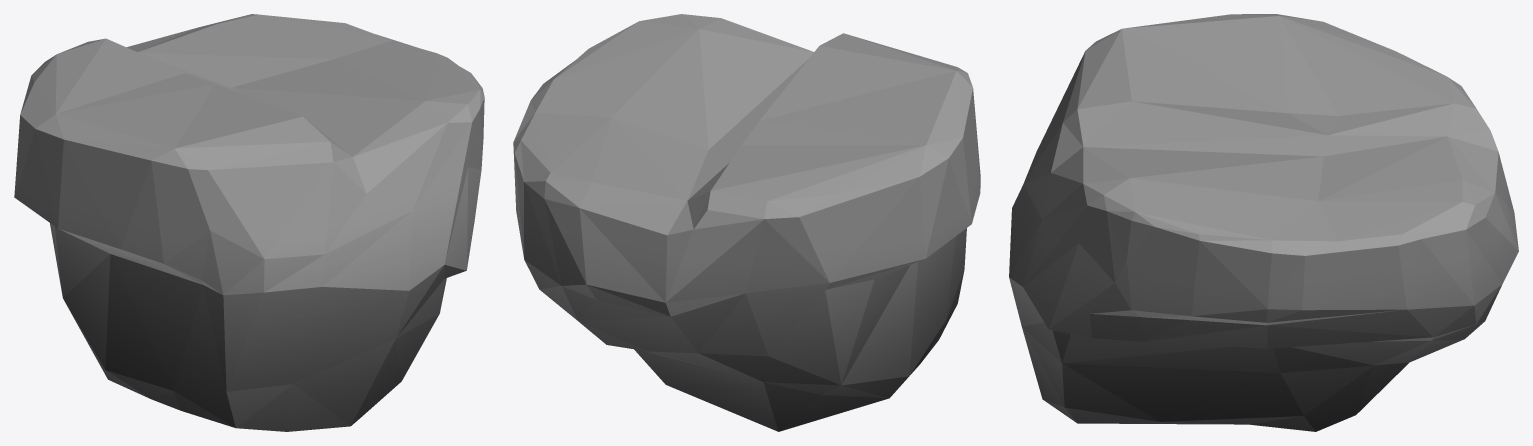
Rendered from Jungle_PlatformRock_Lrg_B.fbx.
3 renders of one model, left to right at view 1: azimuth 30°, elevation 25°; view 2: azimuth 150°, elevation 25°; view 3: azimuth 270°, elevation 25°, orthographic. The views are drawn at different scales.
Parts seen in each view (by area): view 1: Jungle_PlatformRock_Lrg_B; view 2: Jungle_PlatformRock_Lrg_B; view 3: Jungle_PlatformRock_Lrg_B.
Boxes of the visible parts, bbox=[...] form: Jungle_PlatformRock_Lrg_B: bbox=[14, 14, 484, 431]; Jungle_PlatformRock_Lrg_B: bbox=[513, 14, 980, 431]; Jungle_PlatformRock_Lrg_B: bbox=[1009, 14, 1518, 431].
Size of the model in its own units: 10.1 by 7.25 by 10.32.
